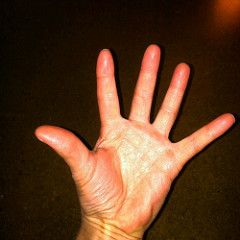palm: (91, 124, 181, 229)
